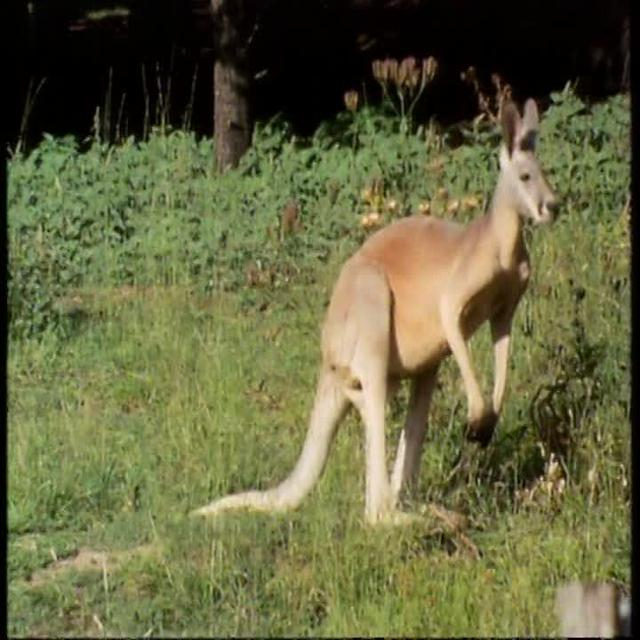kangaroo: (321, 98, 562, 530)
